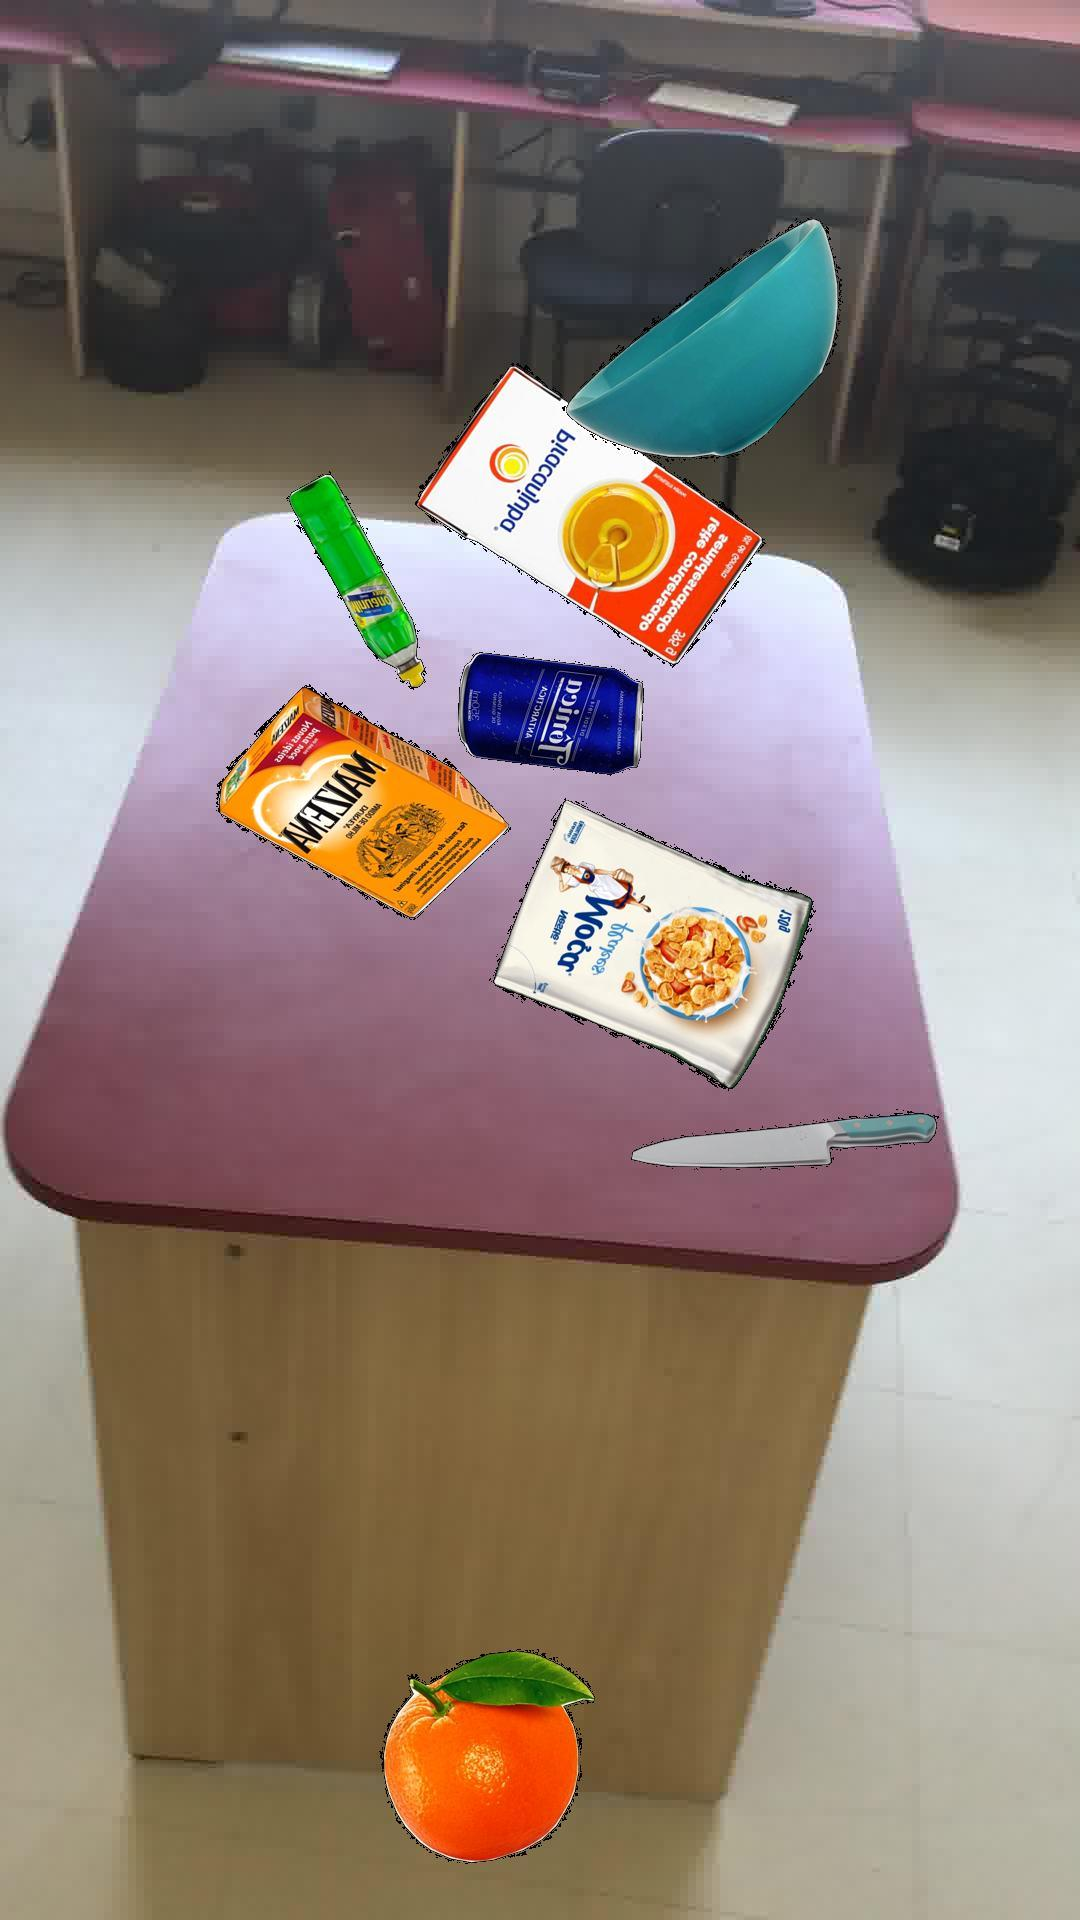bowl: (564, 216, 840, 458)
cleaner: (285, 469, 425, 688)
corn flakes: (492, 796, 812, 1089)
knife: (629, 1109, 938, 1167)
orange: (377, 1648, 593, 1862)
tonic: (456, 650, 642, 774)
